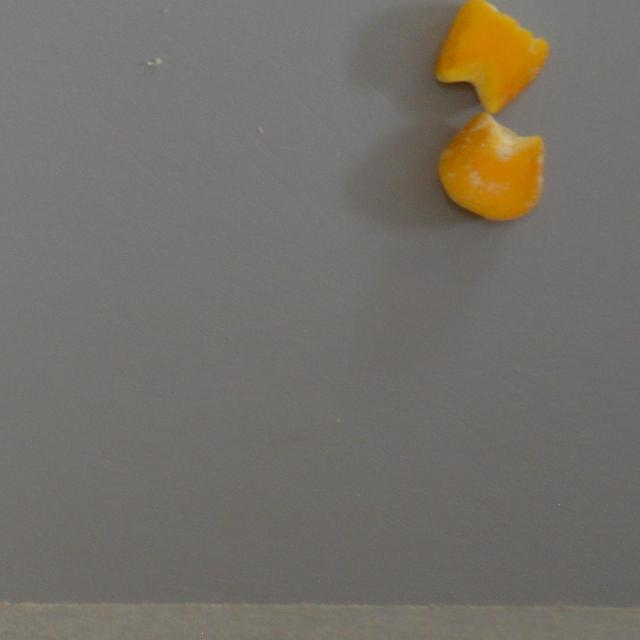dañado: (430, 0, 554, 117)
punto_negro: (432, 106, 550, 227)
